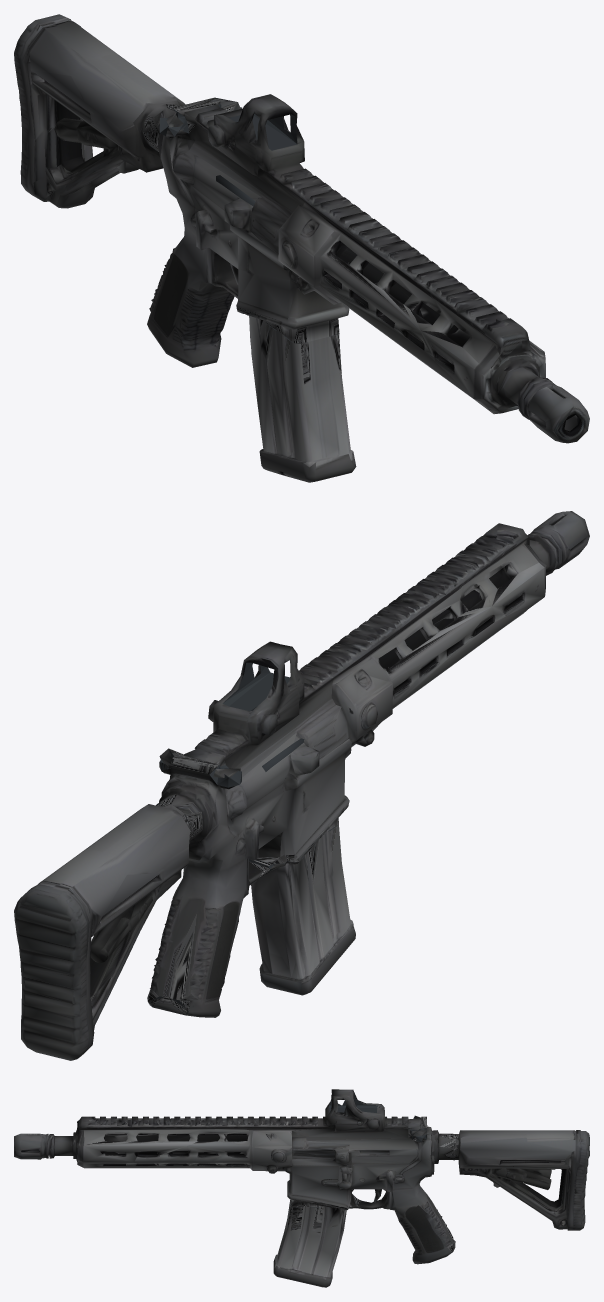
3 views of the same model, one above another, from view 1: azimuth 30°, elevation 25°; view 2: azimuth 150°, elevation 25°; view 3: azimuth 270°, elevation 25° (orthographic). The views are drawn at different scales.
Visible parts, largest first — view 1: Body, Stock, Magazine; view 2: Body, Stock, Magazine; view 3: Body, Stock, Magazine.
Boxes of the visible parts, x1,y1,x2,y2 form: Body: [147, 94, 589, 443]; Stock: [14, 14, 185, 208]; Magazine: [237, 310, 356, 482]; Body: [147, 511, 589, 1017]; Stock: [14, 803, 191, 1060]; Magazine: [248, 824, 355, 995]; Body: [14, 1089, 453, 1264]; Stock: [453, 1130, 589, 1250]; Magazine: [273, 1197, 358, 1287].
Bounding box in the file's own units: 13.3 × 51.61 × 141.
